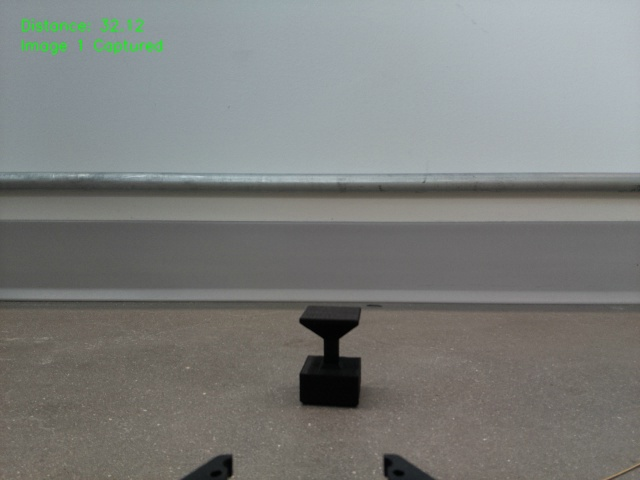block: (297, 304, 363, 408)
